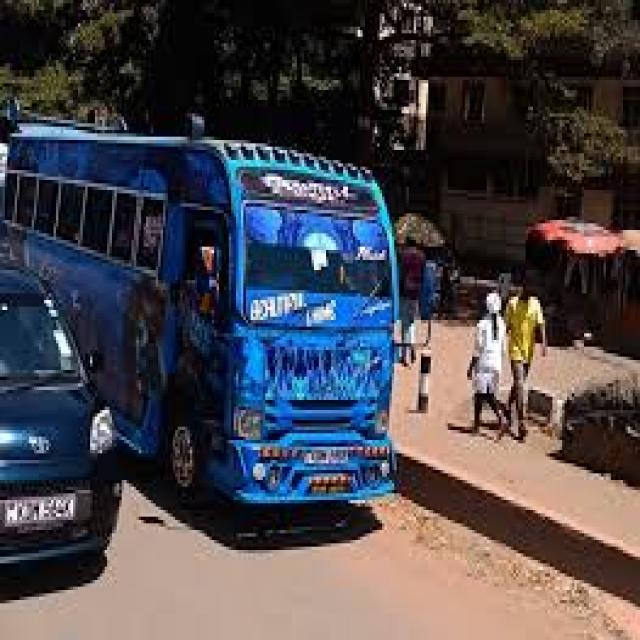bus: (0, 60, 455, 553)
